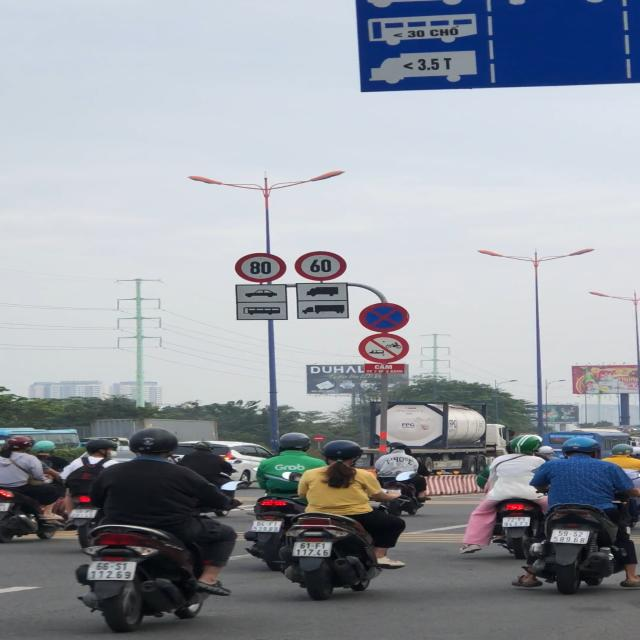Bien bao cam dung xe va do xe: (360, 303, 411, 334)
Bien bao toc do toi da cho phep: (293, 251, 348, 281), (234, 252, 287, 282)
